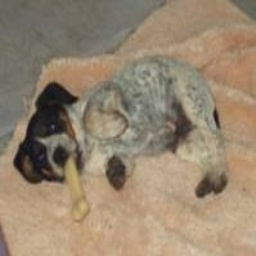dog: (7, 51, 226, 221)
